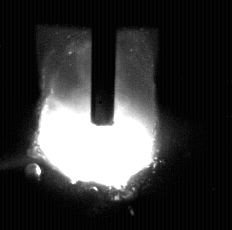arame: (92, 0, 115, 126)
poca: (36, 0, 155, 230)
